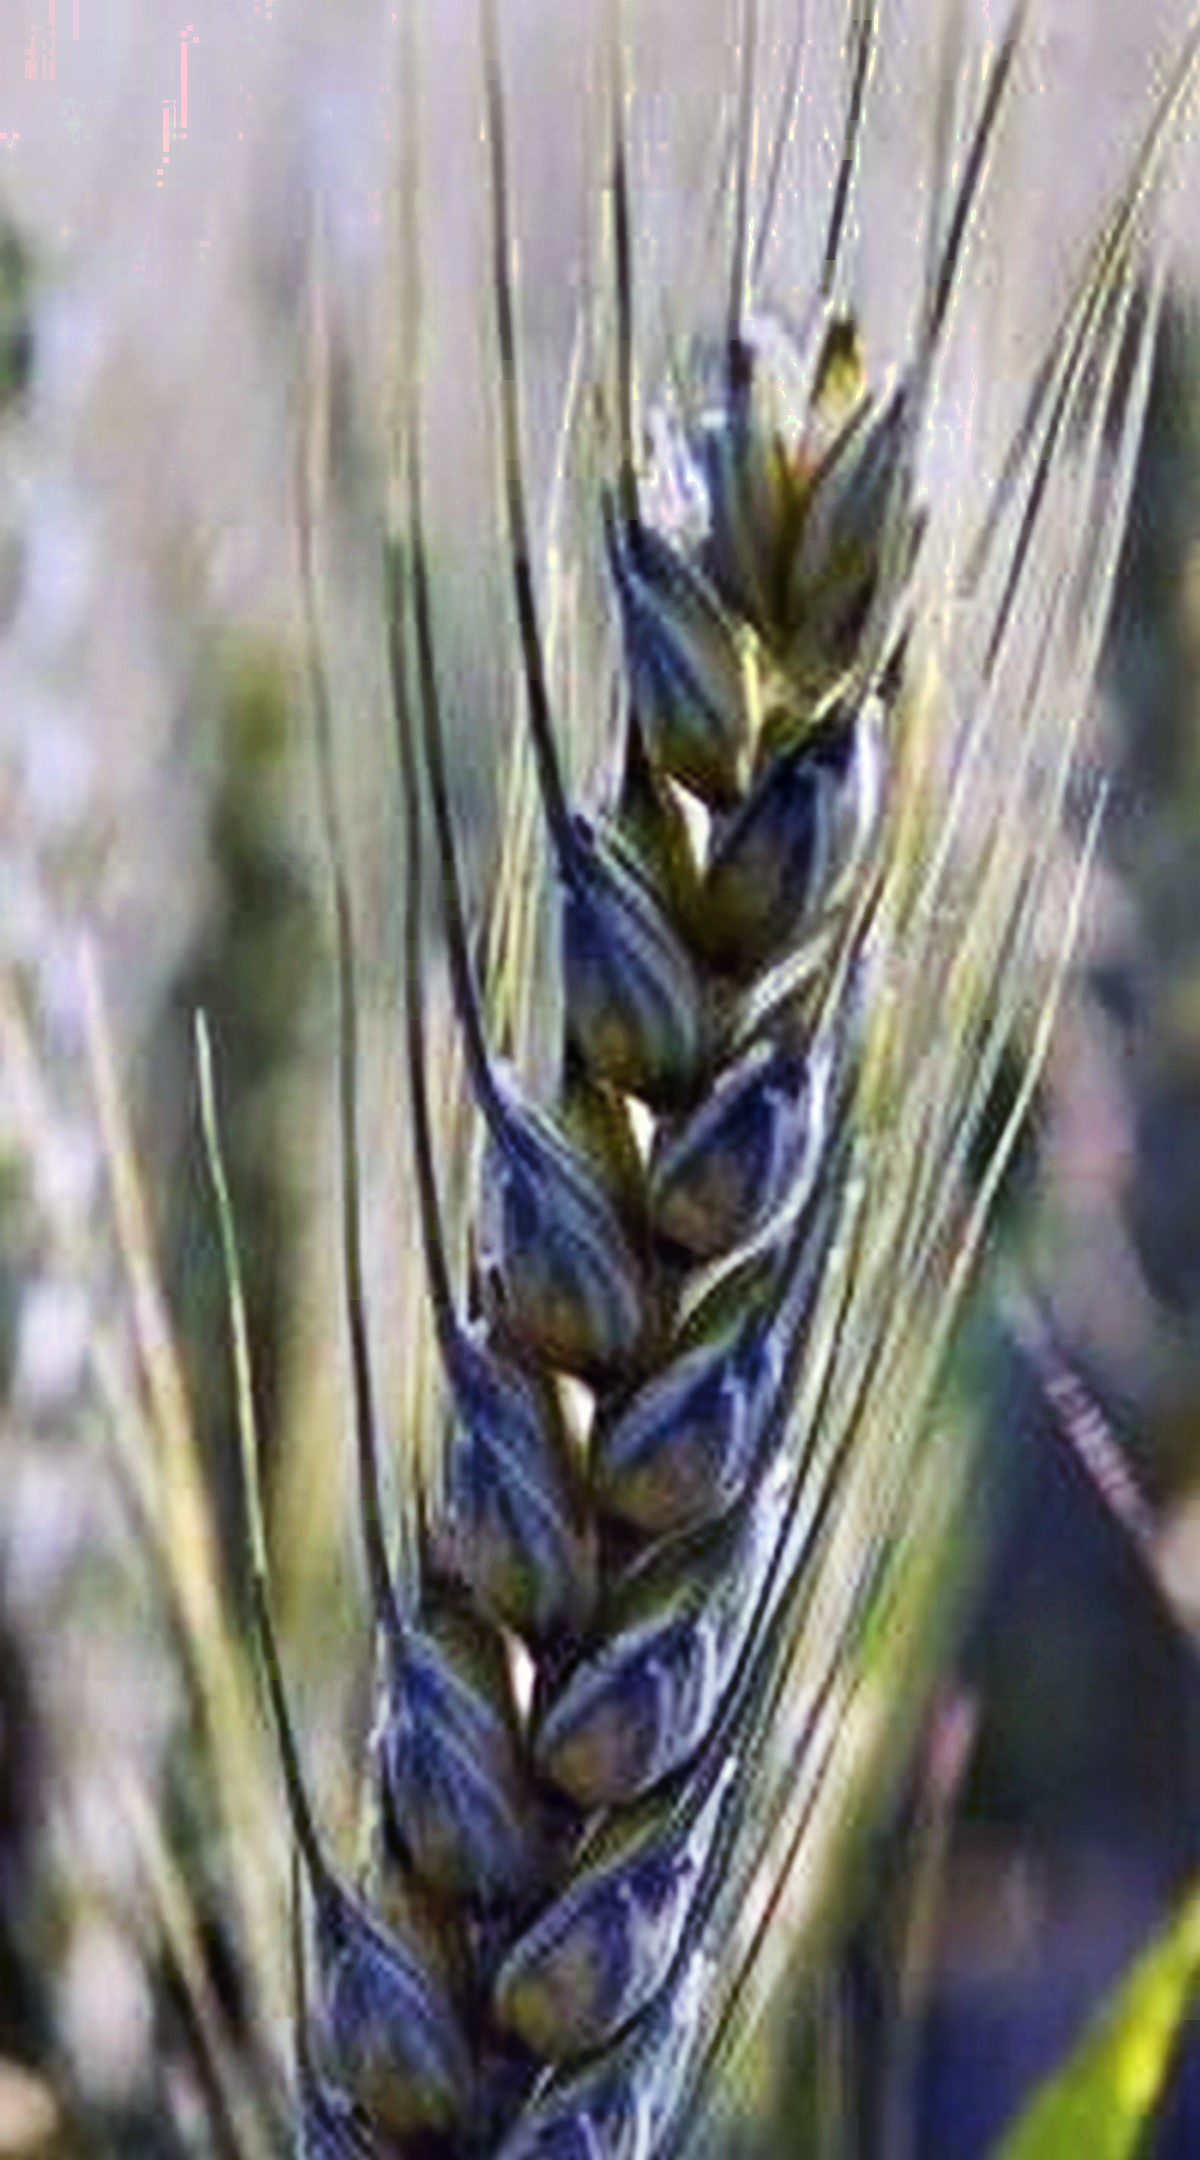Healthy Wheat: (310, 225, 1029, 2136)
